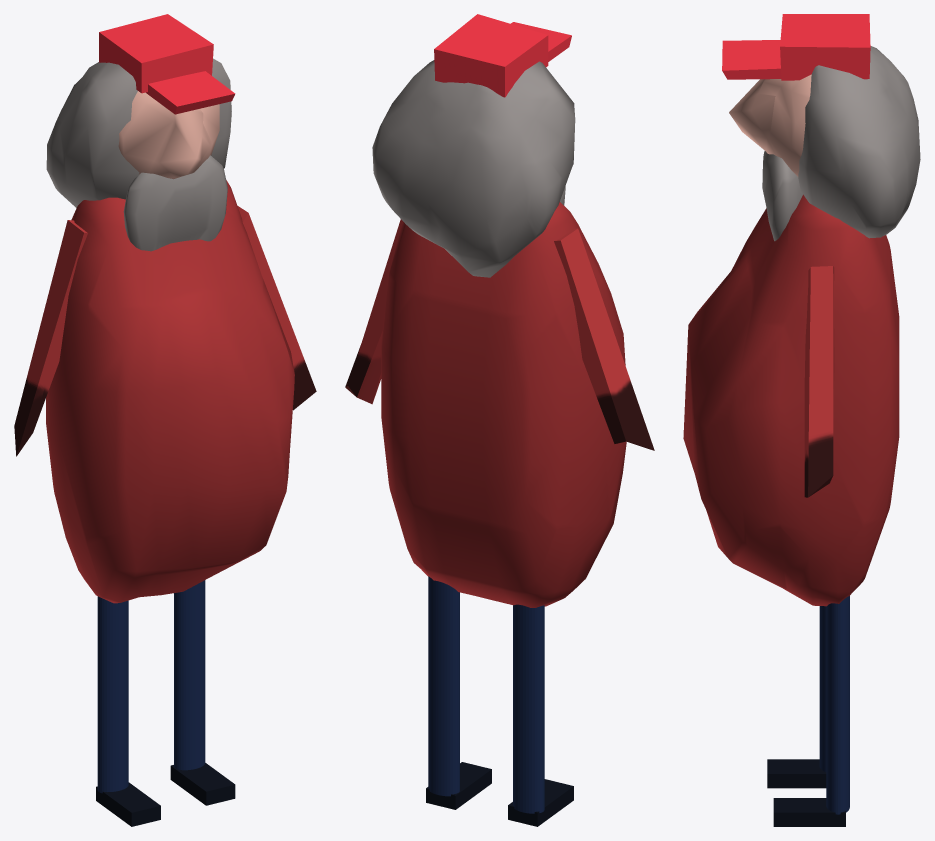
File: sklepikarz.glb
The picture shows the model from 3 angles, left to right: view 1: azimuth 30°, elevation 25°; view 2: azimuth 150°, elevation 25°; view 3: azimuth 270°, elevation 25°; orthographic projection.
Visible parts, largest first — view 1: Mball.002, Mball.005, Mball.003, Mball.001, Cylinder, Cylinder.001, Cube, Cube.003, Cube.002, Cube.001, Cube.005, Cube.004; view 2: Mball.002, Mball.005, Cube.003, Cylinder.001, Cylinder, Cube, Cube.001, Cube.005, Cube.004, Cube.002; view 3: Mball.002, Mball.005, Cube.001, Cube, Cylinder.001, Mball.001, Cube.002, Mball.003, Cube.005, Cube.004, Cylinder.
Boxes of the visible parts, x1=… form: Mball.002: x1=46, y1=180, x2=294, y2=603; Mball.005: x1=46, y1=58, x2=231, y2=207; Mball.003: x1=123, y1=155, x2=227, y2=251; Mball.001: x1=118, y1=91, x2=219, y2=179; Cylinder: x1=97, y1=596, x2=128, y2=793; Cylinder.001: x1=174, y1=580, x2=205, y2=770; Cube: x1=99, y1=14, x2=213, y2=93; Cube.003: x1=14, y1=220, x2=87, y2=456; Cube.002: x1=146, y1=71, x2=235, y2=114; Cube.001: x1=237, y1=206, x2=316, y2=410; Cube.005: x1=170, y1=763, x2=235, y2=805; Cube.004: x1=96, y1=782, x2=160, y2=826; Mball.002: x1=381, y1=202, x2=626, y2=607; Mball.005: x1=372, y1=60, x2=575, y2=277; Cube.003: x1=554, y1=228, x2=654, y2=450; Cylinder.001: x1=428, y1=576, x2=459, y2=796; Cylinder: x1=513, y1=604, x2=544, y2=813; Cube: x1=434, y1=14, x2=548, y2=97; Cube.001: x1=345, y1=219, x2=403, y2=404; Cube.005: x1=426, y1=762, x2=491, y2=809; Cube.004: x1=508, y1=779, x2=573, y2=826; Cube.002: x1=511, y1=22, x2=571, y2=61; Mball.002: x1=683, y1=194, x2=899, y2=606; Mball.005: x1=798, y1=46, x2=920, y2=238; Cube.001: x1=804, y1=266, x2=834, y2=497; Cube: x1=780, y1=14, x2=870, y2=80; Cylinder.001: x1=826, y1=596, x2=849, y2=814; Mball.001: x1=729, y1=74, x2=811, y2=176; Cube.002: x1=722, y1=40, x2=781, y2=79; Mball.003: x1=762, y1=151, x2=802, y2=241; Cube.005: x1=773, y1=798, x2=845, y2=826; Cube.004: x1=767, y1=759, x2=826, y2=788; Cylinder: x1=819, y1=606, x2=826, y2=771.
Size of the model in its own units: 1.56 by 3.72 by 1.04.
12 materials, 12 textured.
